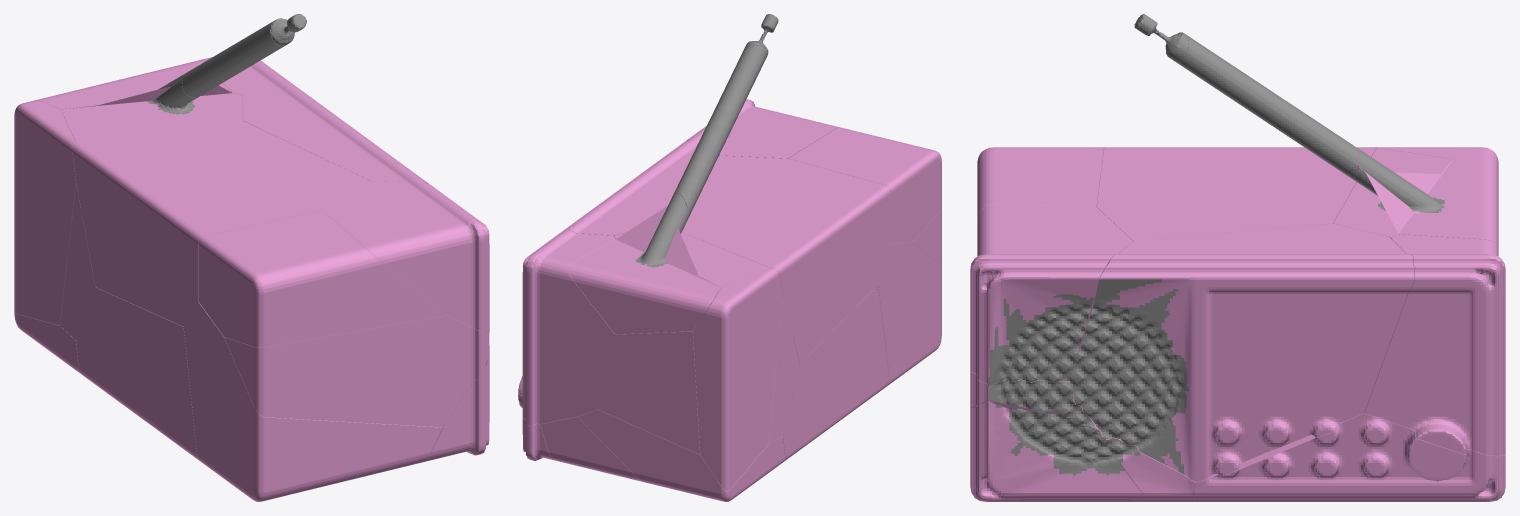
File: broken_radio.fbx
3 views of the same model, side by side, from view 1: azimuth 30°, elevation 25°; view 2: azimuth 150°, elevation 25°; view 3: azimuth 270°, elevation 25° (orthographic). The views are drawn at different scales.
Parts seen in each view (by area): view 1: Radio_cell.011, Radio_cell, Radio_cell.007, Radio_cell.003, Radio_cell.009, Radio_cell.001, Radio_cell.013, Radio_cell.008, Radio_cell.010, Radio_cell.014, Radio_cell.005, Radio_cell.016 (+3 smaller); view 2: Radio_cell.011, Radio_cell.001, Radio_cell.008, Radio_cell.002, Radio_cell.014, Radio_cell.013, Radio_cell, Radio_cell.003, Radio_cell.006, Radio_cell.010, Radio_cell.016, Radio_cell.009 (+3 smaller); view 3: Radio_cell.010, Radio_cell.002, Radio_cell.009, Radio_cell.011, Radio_cell.004, Radio_cell.005, Radio_cell.014, Radio_cell, Radio_cell.016, Radio_cell.008, Radio_cell.013, Radio_cell.007 (+2 smaller).
Part boxes in pixels (<box>): Radio_cell.011: <box>72,120,371,326</box>; Radio_cell: <box>198,210,445,347</box>; Radio_cell.007: <box>224,312,489,427</box>; Radio_cell.003: <box>183,302,442,501</box>; Radio_cell.009: <box>323,177,489,334</box>; Radio_cell.001: <box>14,100,75,325</box>; Radio_cell.013: <box>76,287,199,460</box>; Radio_cell.008: <box>60,78,242,340</box>; Radio_cell.010: <box>242,73,428,183</box>; Radio_cell.014: <box>36,60,231,109</box>; Radio_cell.005: <box>424,347,489,461</box>; Radio_cell.016: <box>182,21,283,97</box>; Radio_cell.011: <box>682,155,890,363</box>; Radio_cell.001: <box>693,268,782,490</box>; Radio_cell.008: <box>597,205,799,454</box>; Radio_cell.002: <box>518,230,614,426</box>; Radio_cell.014: <box>568,193,720,334</box>; Radio_cell.013: <box>783,285,889,460</box>; Radio_cell: <box>788,127,941,243</box>; Radio_cell.003: <box>878,242,941,384</box>; Radio_cell.006: <box>577,409,785,501</box>; Radio_cell.010: <box>558,139,697,235</box>; Radio_cell.016: <box>673,45,767,214</box>; Radio_cell.009: <box>687,99,838,158</box>; Radio_cell.010: <box>1070,223,1414,482</box>; Radio_cell.002: <box>1364,234,1505,456</box>; Radio_cell.009: <box>970,204,1132,386</box>; Radio_cell.011: <box>1097,147,1375,241</box>; Radio_cell.004: <box>1192,413,1505,501</box>; Radio_cell.005: <box>970,400,1142,501</box>; Radio_cell.014: <box>1358,151,1498,246</box>; Radio_cell: <box>977,147,1104,222</box>; Radio_cell.016: <box>1177,34,1361,179</box>; Radio_cell.008: <box>1333,148,1453,236</box>; Radio_cell.013: <box>1105,437,1200,501</box>; Radio_cell.007: <box>970,369,1075,413</box>.
Size of the model in its own units: 233 by 362 by 406.
